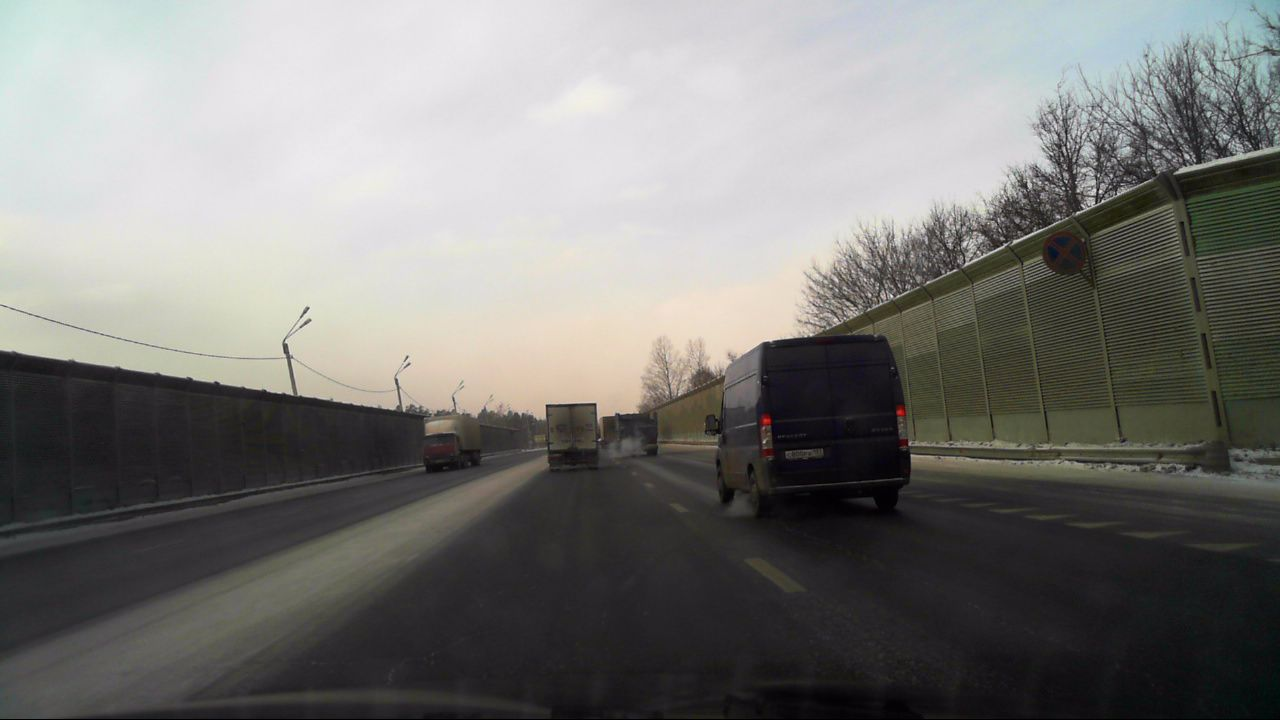No Parking: (1042, 232, 1085, 276)
